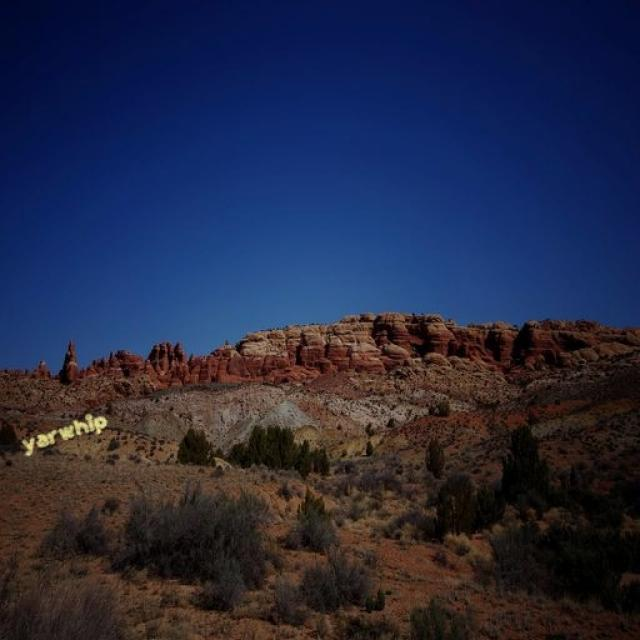watermark: (18, 410, 110, 454)
